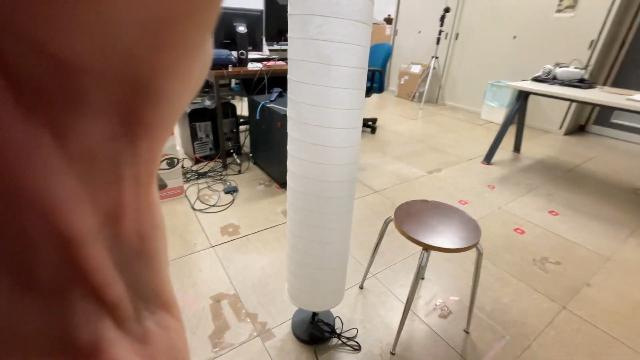Lamp: (280, 0, 380, 352)
Stool: (355, 196, 489, 360)
